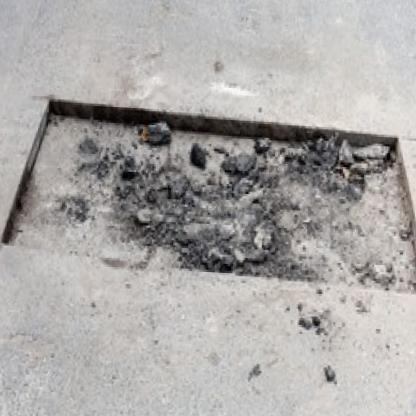pothole: (0, 90, 416, 295)
